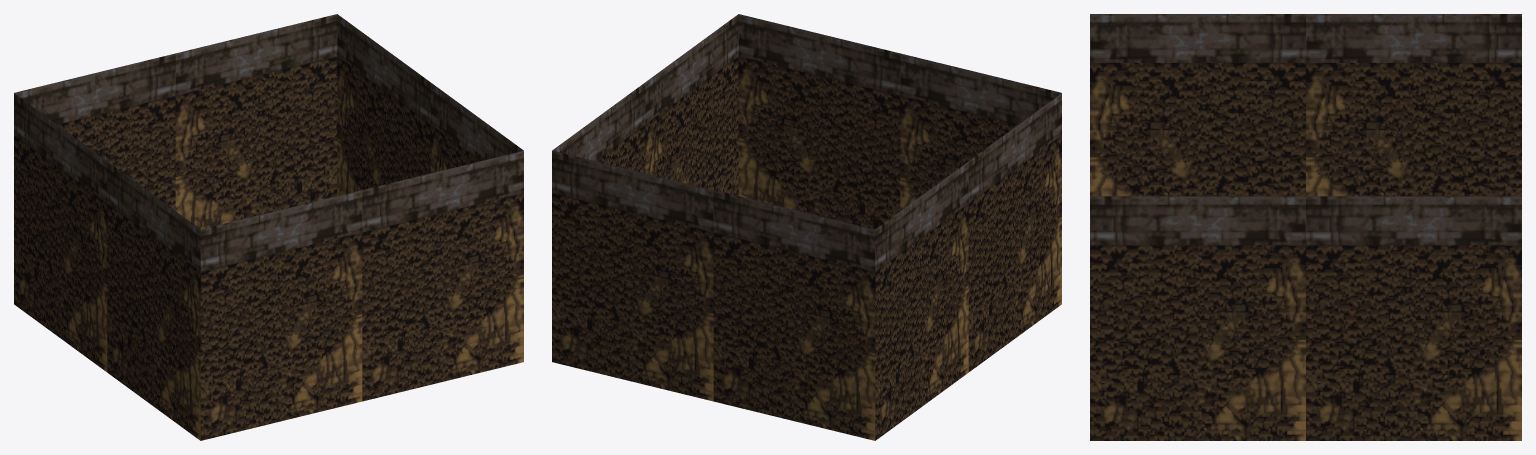
The model's file is MAP125.obj.
3 renders of one model, left to right at view 1: azimuth 30°, elevation 25°; view 2: azimuth 150°, elevation 25°; view 3: azimuth 270°, elevation 25°, orthographic. The views are drawn at different scales.
Parts seen in each view (by area): view 1: mesh_4, mesh_3; view 2: mesh_4, mesh_3; view 3: mesh_4, mesh_3.
Part boxes in pixels (x1,y1,x2,y2): mesh_4: (14,56,523,440); mesh_3: (14,14,523,271); mesh_4: (552,56,1061,440); mesh_3: (552,14,1061,271); mesh_4: (1090,63,1521,440); mesh_3: (1090,14,1521,245).
Bounding box in the file's own units: 102 × 64 × 102.
